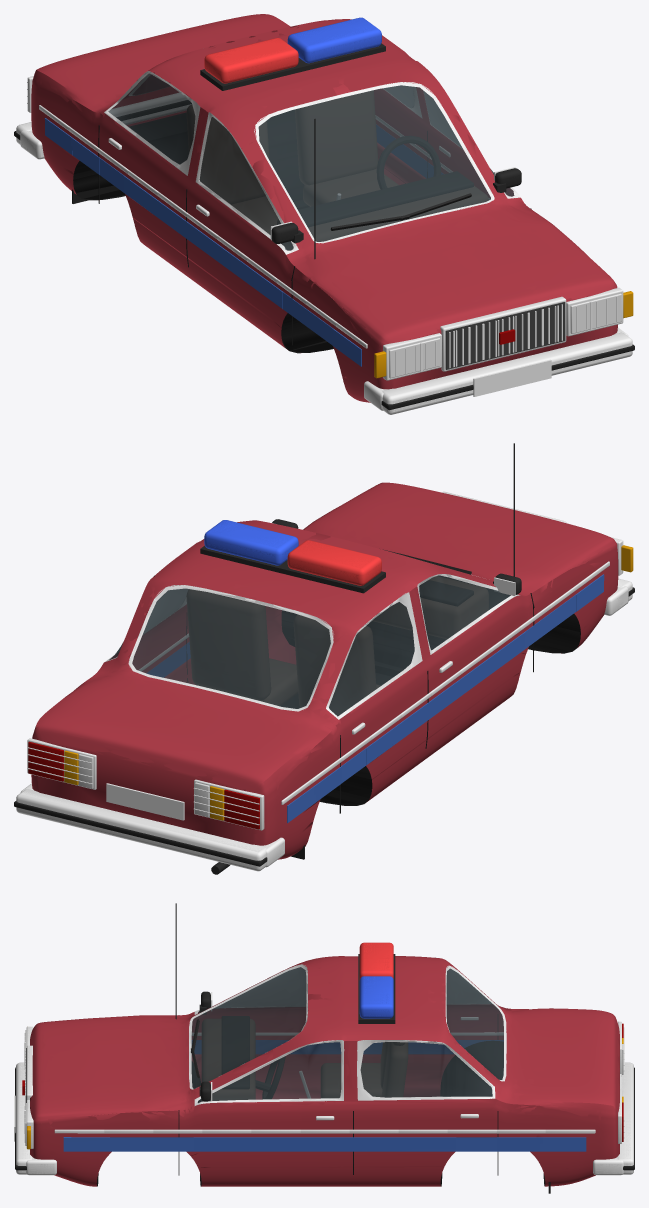
Rendered from police.glb.
3 views of the same model, one above another, from view 1: azimuth 30°, elevation 25°; view 2: azimuth 150°, elevation 25°; view 3: azimuth 270°, elevation 25° (orthographic). The views are drawn at different scales.
Visible parts, largest first — view 1: LOD_hi, LOD0; view 2: LOD_hi, LOD0; view 3: LOD_hi, LOD0.
Boxes of the visible parts, bbox=[...] form: LOD_hi: bbox=[14, 14, 634, 414]; LOD0: bbox=[15, 18, 633, 411]; LOD_hi: bbox=[14, 443, 634, 874]; LOD0: bbox=[21, 444, 634, 873]; LOD_hi: bbox=[14, 903, 634, 1193]; LOD0: bbox=[14, 903, 632, 1185].
Size of what is drawn, in the model's own units: 1.73 by 1.6 by 4.38.
